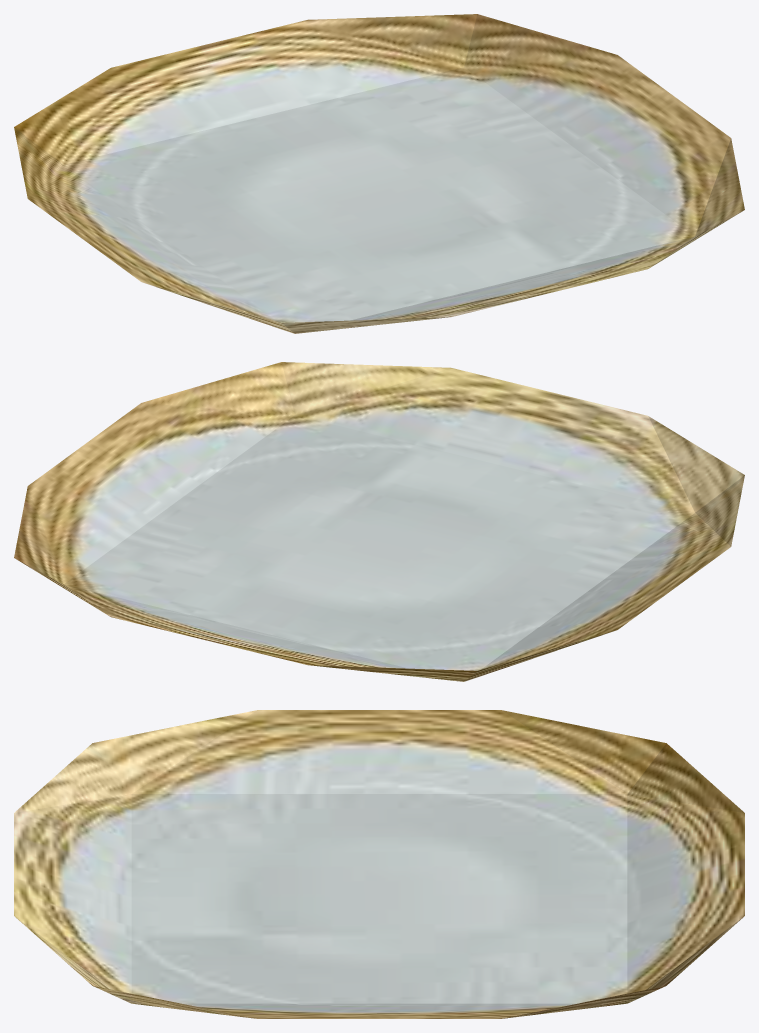
File: plate.fbx
3 renders of one model, top to bottom at view 1: azimuth 30°, elevation 25°; view 2: azimuth 150°, elevation 25°; view 3: azimuth 270°, elevation 25°, orthographic. The views are drawn at different scales.
Parts seen in each view (by area): view 1: Plane; view 2: Plane; view 3: Plane.
Part boxes in pixels (left/top/right/bottom): Plane: left=14, top=14, right=744, bottom=333; Plane: left=14, top=362, right=744, bottom=681; Plane: left=14, top=710, right=744, bottom=1018.
Size of the model in its own units: 200 by 10.39 by 200.
